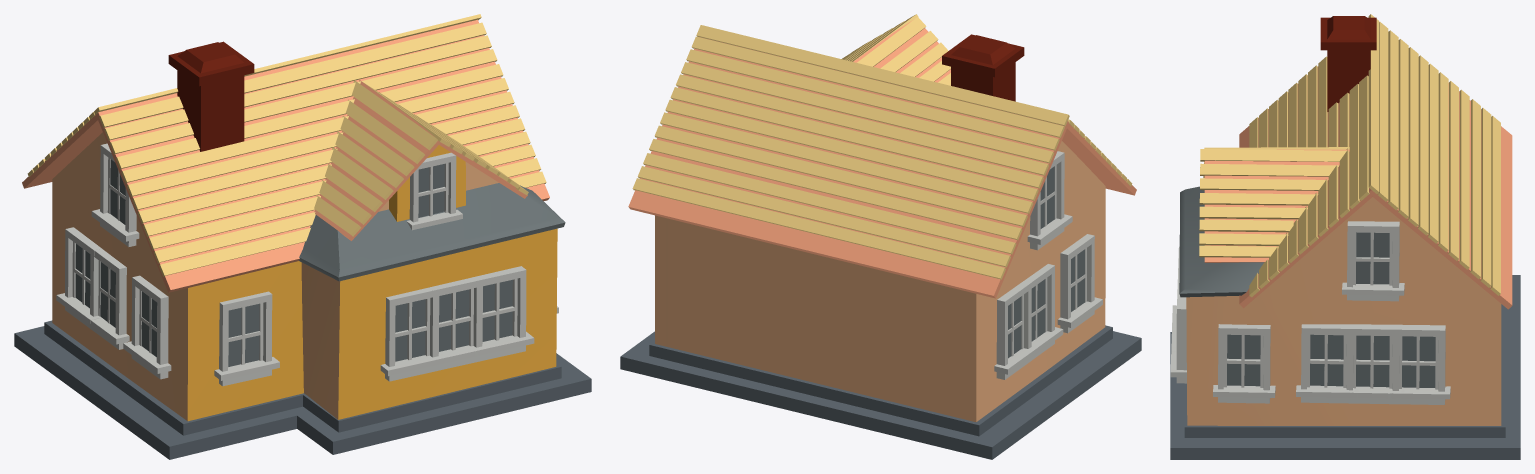
Rendered from project-two-transformed.glb.
3 renders of one model, left to right at view 1: azimuth 30°, elevation 25°; view 2: azimuth 150°, elevation 25°; view 3: azimuth 270°, elevation 25°, orthographic. The views are drawn at different scales.
Parts seen in each view (by area): view 1: Object_2; view 2: Object_2; view 3: Object_2.
Boxes of the visible parts, bbox=[...] form: Object_2: bbox=[14, 14, 591, 459]; Object_2: bbox=[620, 14, 1141, 459]; Object_2: bbox=[1170, 14, 1520, 459].
Bounding box in the file's own units: 1.37 × 1.15 × 1.17.
1 material, 1 textured.
